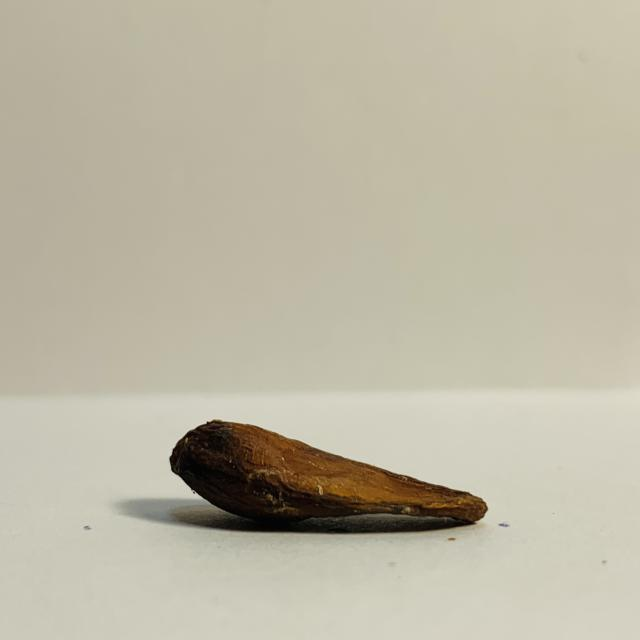Flat_cocoabeans: (75, 383, 525, 574)
